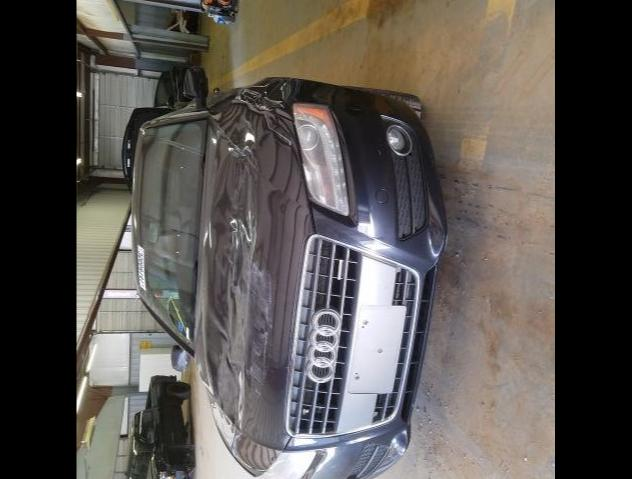Dent: (204, 146, 258, 436), (238, 78, 290, 112)
Missing part: (350, 306, 402, 390)
Scratch: (246, 258, 272, 394)
